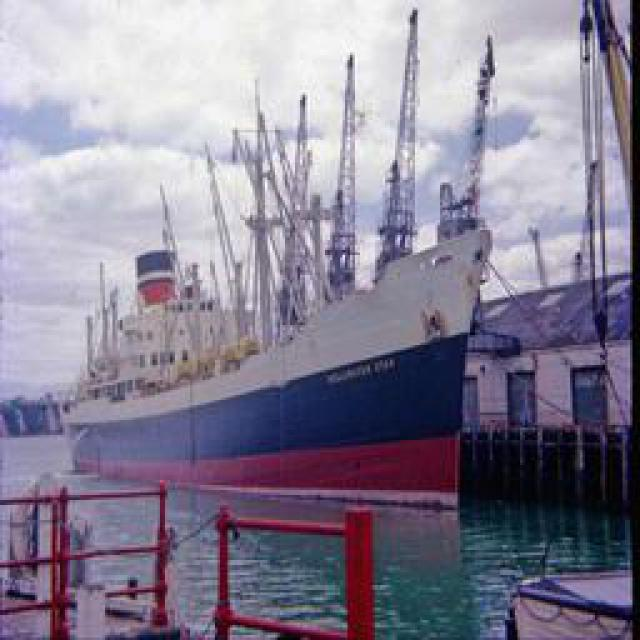Ship: (44, 11, 514, 581)
